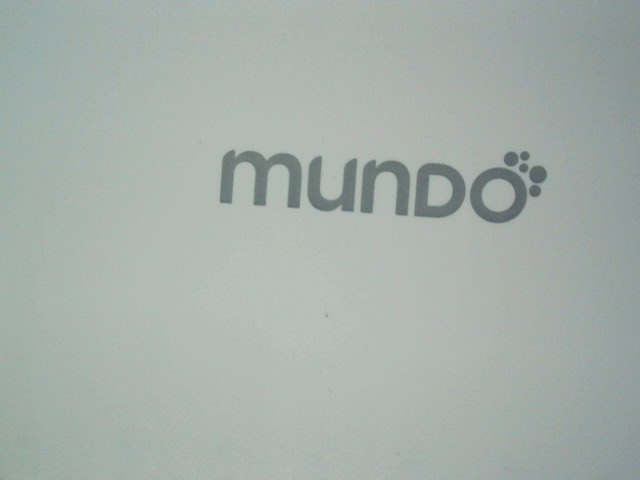BI_MUNDO: (212, 137, 552, 230)
